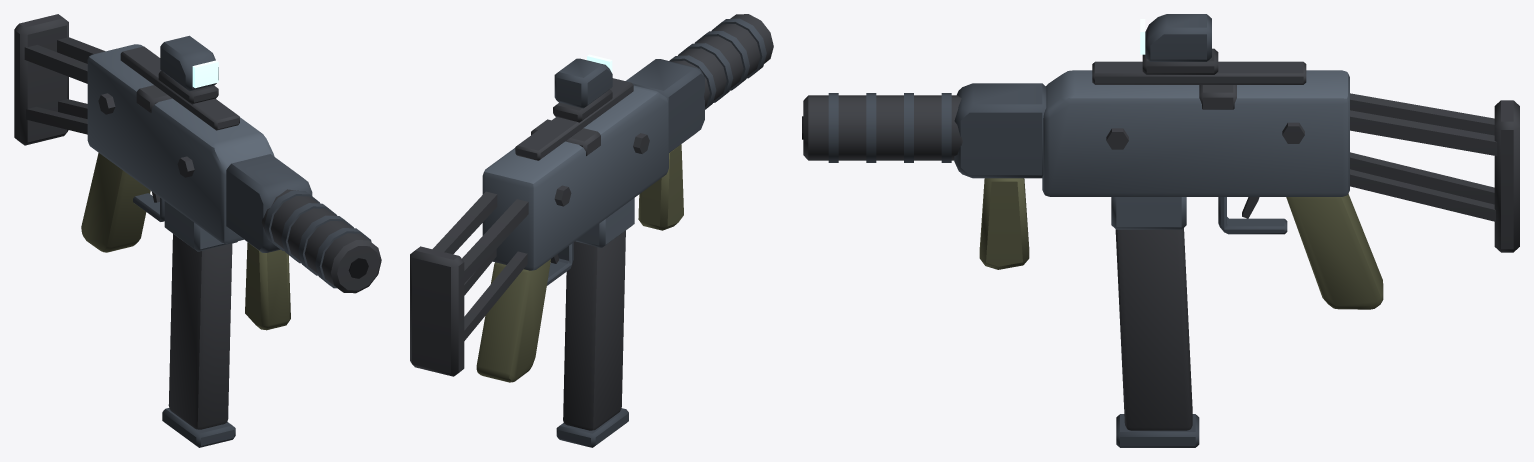
The model's file is smg.glb.
The picture shows the model from 3 angles, left to right: view 1: azimuth 30°, elevation 25°; view 2: azimuth 150°, elevation 25°; view 3: azimuth 270°, elevation 25°; orthographic projection. The views are drawn at different scales.
Parts seen in each view (by area): view 1: smg_body, smg_metal, smg_magazine, smg_sight, smg_lens; view 2: smg_body, smg_metal, smg_magazine, smg_sight; view 3: smg_body, smg_metal, smg_magazine, smg_sight.
Boxes of the visible parts, box(x1,y1,x2,y2) form: smg_body: box(81, 44, 312, 330); smg_metal: box(14, 14, 381, 293); smg_magazine: box(162, 234, 235, 447); smg_sight: box(158, 35, 218, 104); smg_lens: box(192, 60, 218, 88); smg_body: box(476, 59, 704, 382); smg_metal: box(410, 14, 773, 376); smg_magazine: box(556, 230, 628, 447); smg_sight: box(553, 58, 612, 122); smg_body: box(954, 70, 1383, 309); smg_metal: box(802, 61, 1519, 252); smg_magazine: box(1115, 228, 1199, 447); smg_sight: box(1142, 14, 1218, 74).
Bounding box in the file's own units: 0.07 × 0.367 × 0.571.
